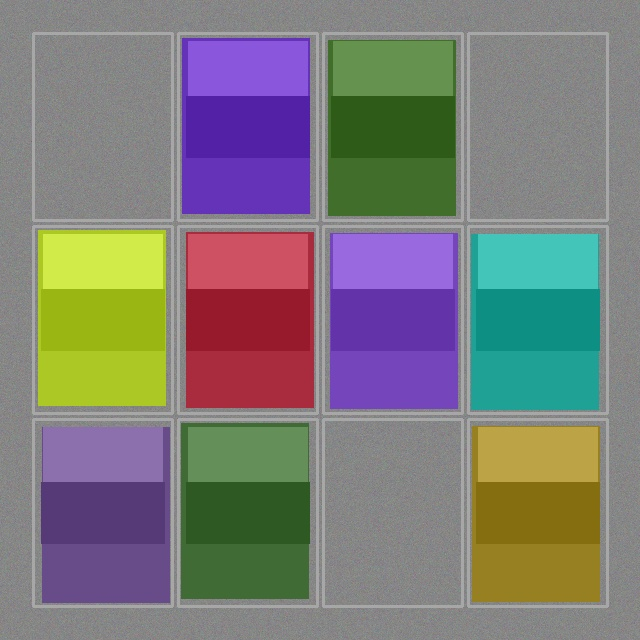space-empty: (35, 35, 170, 218), (470, 35, 605, 218), (325, 421, 460, 604)
space-occupied: (180, 35, 315, 218), (325, 35, 460, 218), (35, 228, 170, 411), (180, 228, 315, 411), (325, 228, 460, 411), (470, 228, 605, 411), (35, 421, 170, 604), (180, 421, 315, 604), (470, 421, 605, 604)
